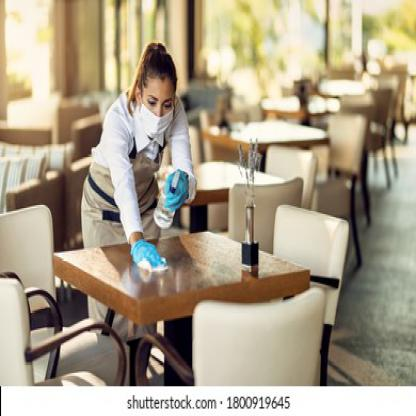with_gloves: (129, 240, 166, 271), (164, 170, 189, 212)
